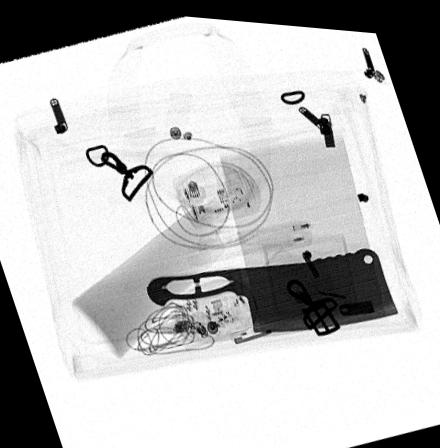Knife: (146, 240, 400, 329)
